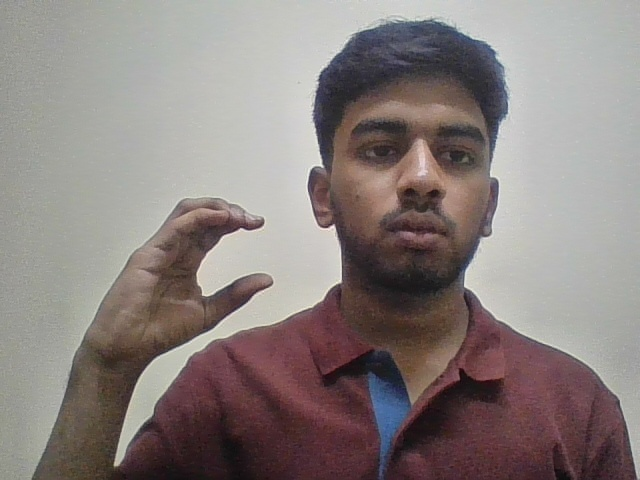C: (66, 166, 284, 369)
